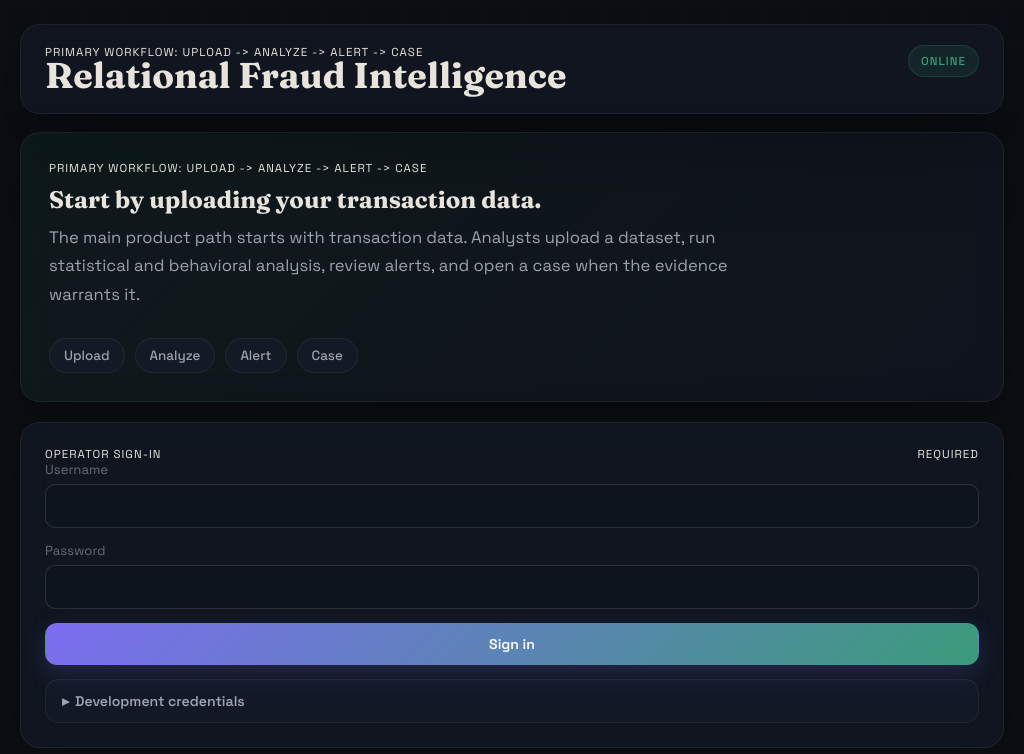
Test case: Dashboard › resolves a case from the cases queue
This screenshot has width=1024, height=754.
Type "analyst" into the field labelled "Username". click: coordinates (512, 506)
box: [45, 484, 979, 528]
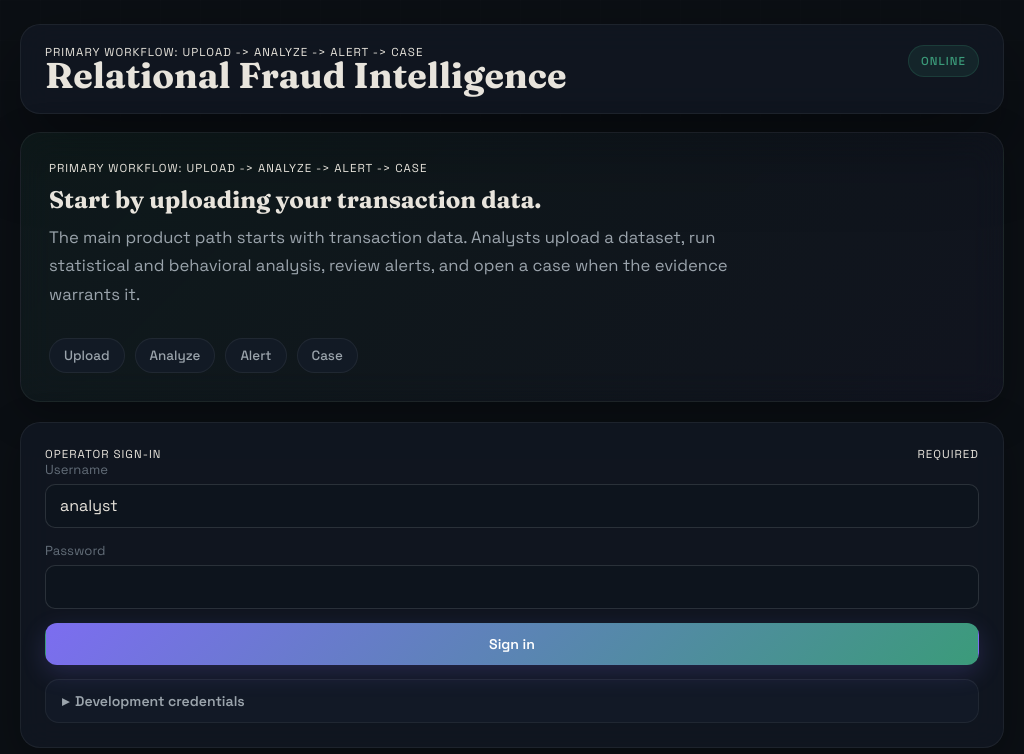
Type "AnalystPassword123!" into the password field labelled "Password". click: coordinates (512, 586)
box: [45, 564, 979, 608]
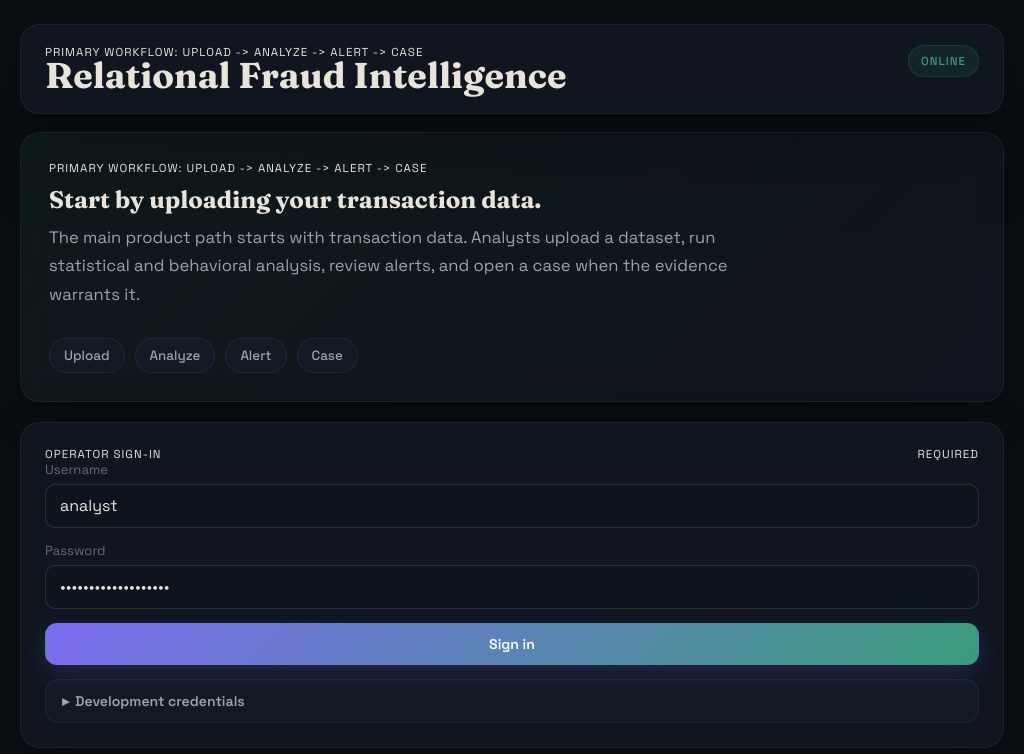
Submit the form "Sign in", box [45, 460, 979, 664]
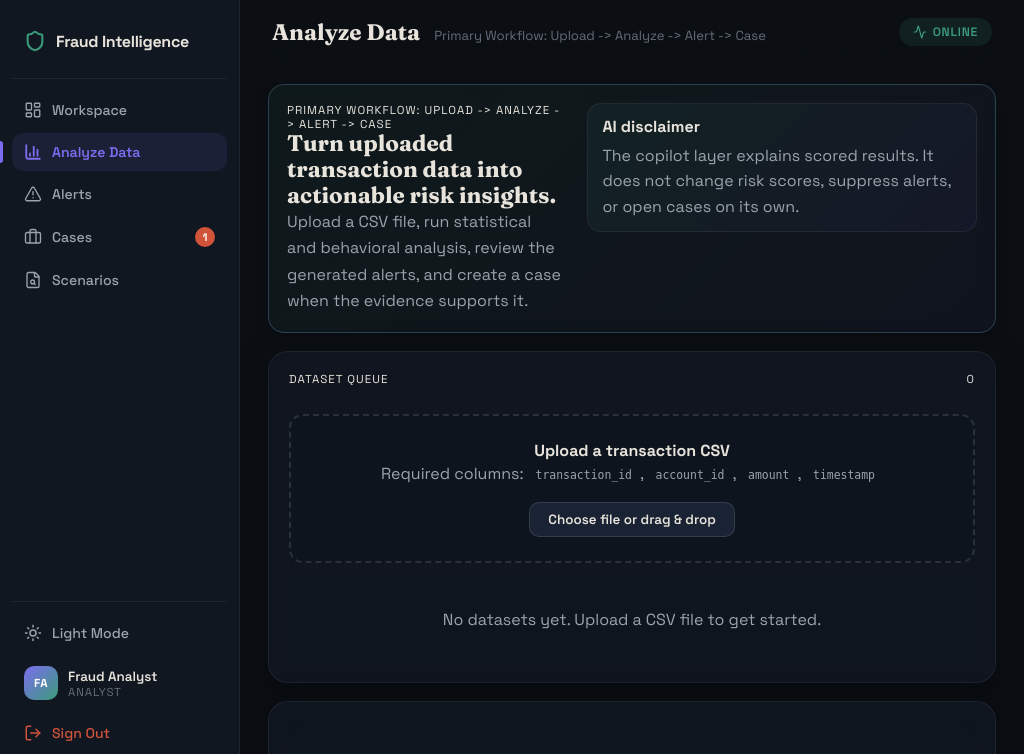
Click the button "Cases 1". click: coordinates (120, 237)
box: [12, 217, 227, 257]
(page scrolled)
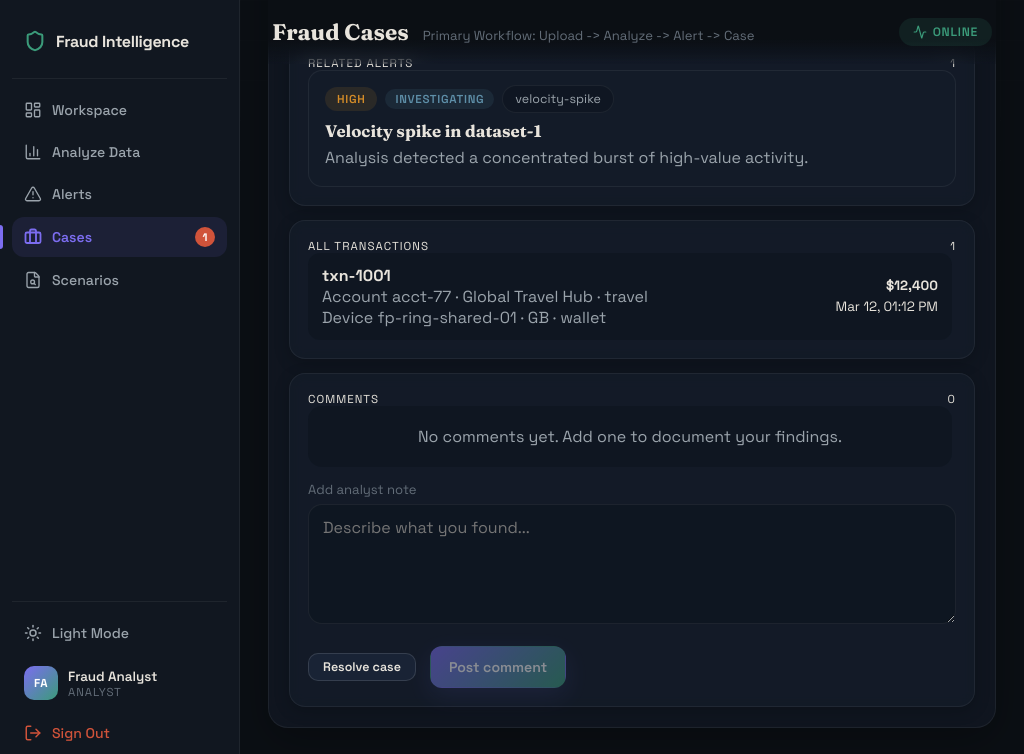
Click the button "Resolve case". click: coordinates (362, 667)
box: [308, 653, 416, 681]
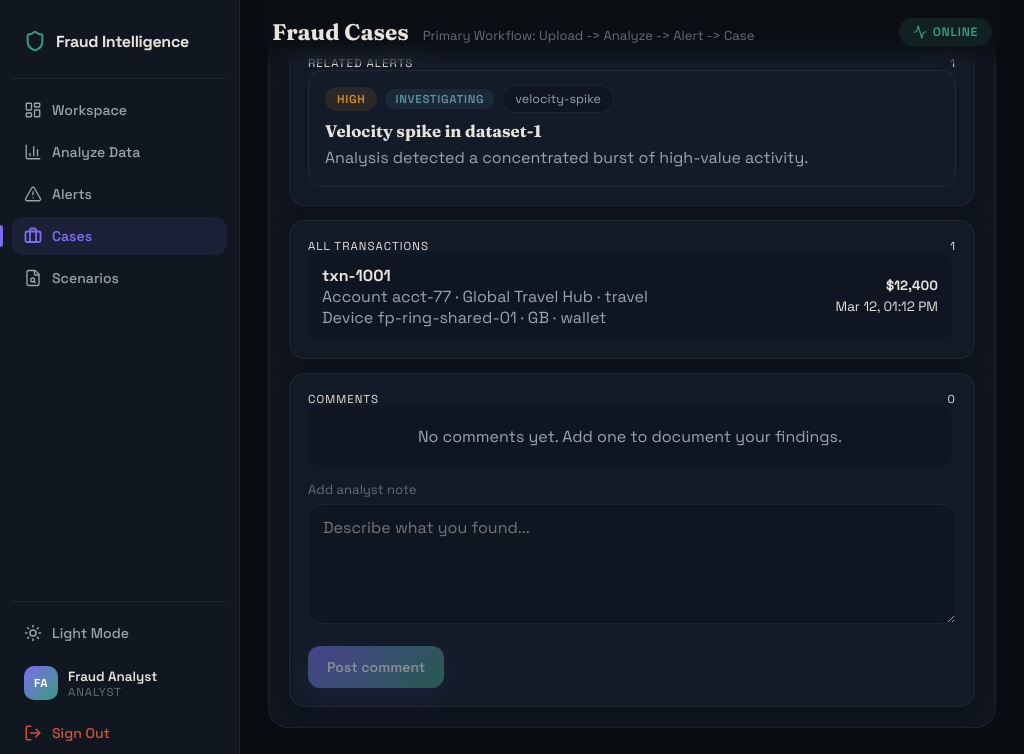
Expected: the button "Resolve case" is gone
